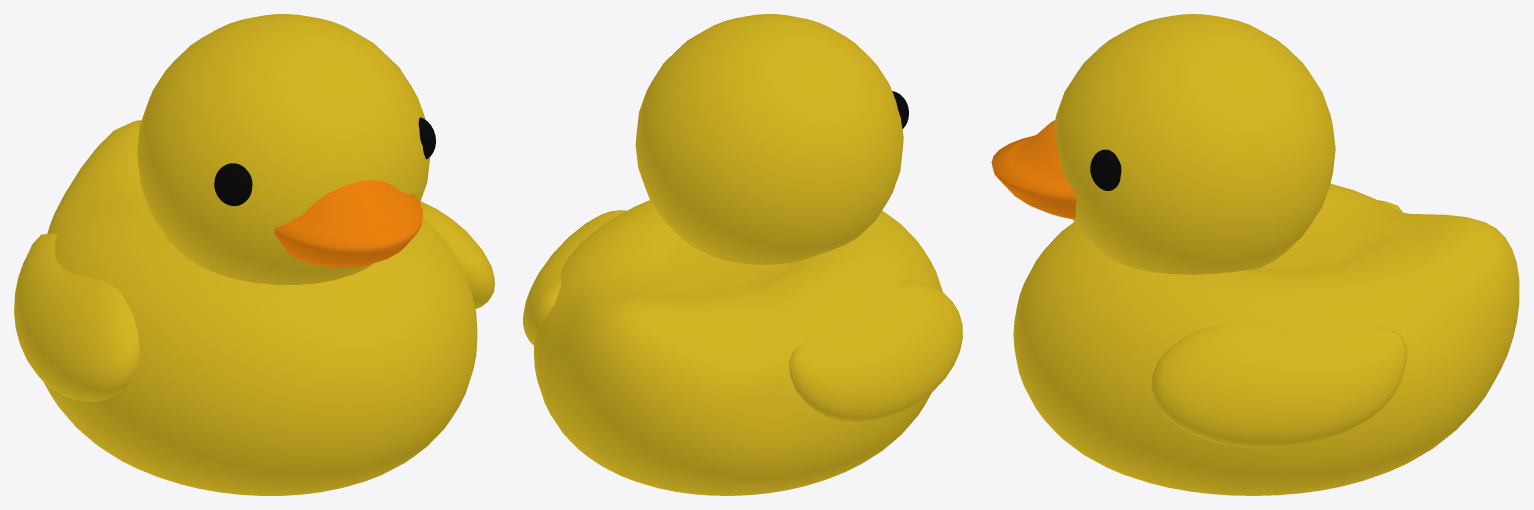
Rendered from duck.glb.
The picture shows the model from 3 angles, left to right: view 1: azimuth 30°, elevation 25°; view 2: azimuth 150°, elevation 25°; view 3: azimuth 270°, elevation 25°; orthographic projection. The views are drawn at different scales.
Parts seen in each view (by area): view 1: Body; view 2: Body; view 3: Body.
Boxes of the visible parts, x1,y1,x2,y2 form: Body: (14,14,494,495); Body: (523,14,962,495); Body: (991,14,1519,495).
Bounding box in the file's own units: 1.29 × 1.26 × 1.45.
